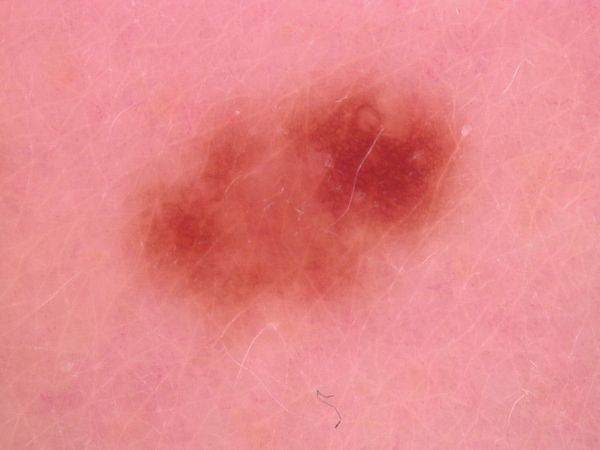Detected Lesion: (125, 77, 466, 318)
